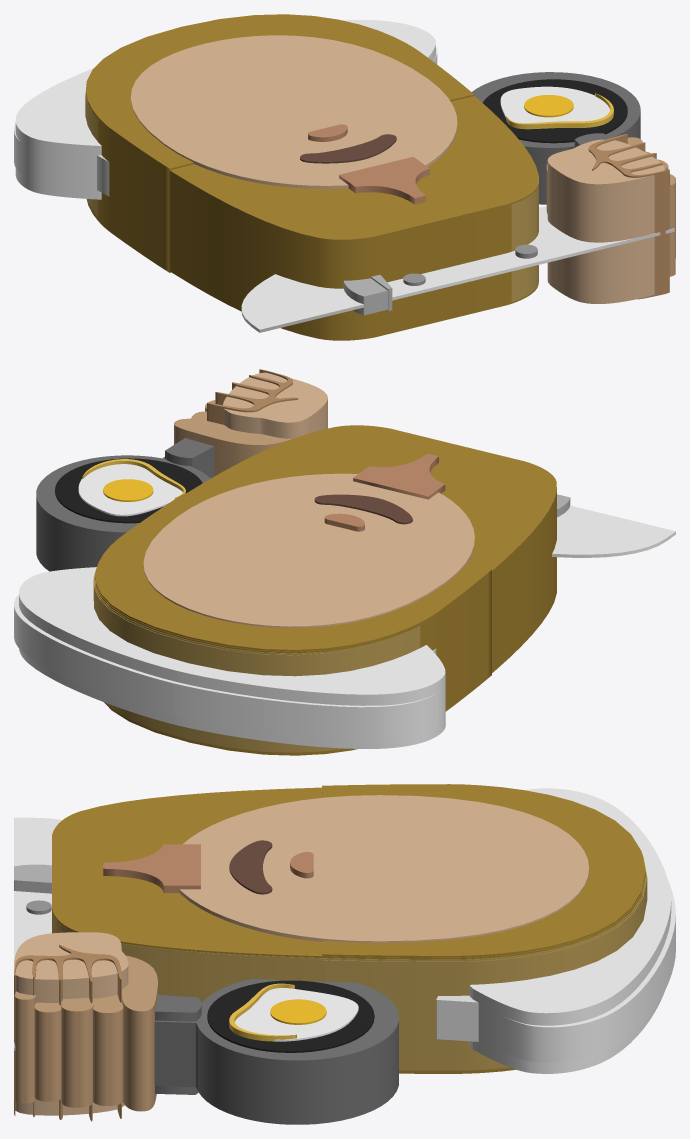
The model's file is emoji_u1f469_1f3fc_200d_1f373.glb.
3 views of the same model, one above another, from view 1: azimuth 30°, elevation 25°; view 2: azimuth 150°, elevation 25°; view 3: azimuth 270°, elevation 25° (orthographic). The views are drawn at different scales.
Visible parts, largest first — view 1: emoji_u1f469_1f3fc_200d_1f373; view 2: emoji_u1f469_1f3fc_200d_1f373; view 3: emoji_u1f469_1f3fc_200d_1f373.
Part boxes in pixels (<box>): emoji_u1f469_1f3fc_200d_1f373: <box>14,14,675,340</box>; emoji_u1f469_1f3fc_200d_1f373: <box>14,369,675,755</box>; emoji_u1f469_1f3fc_200d_1f373: <box>14,784,675,1124</box>.
Size of the model in its own units: 0.0329 by 0.0078 by 0.0336.
